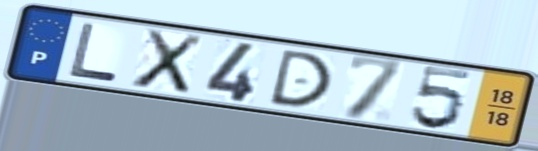4: (202, 39, 261, 105)
5: (408, 63, 474, 132)
7: (346, 52, 410, 124)
D: (266, 47, 335, 110)
L: (66, 20, 122, 84)
X: (128, 27, 207, 97)
